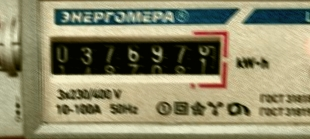0: (53, 43, 66, 63)
1: (195, 56, 207, 74)
3: (77, 44, 90, 65)
6: (124, 41, 137, 62)
7: (100, 42, 113, 63), (172, 42, 184, 64)
9: (148, 42, 160, 63)
screen: (40, 25, 231, 91)
